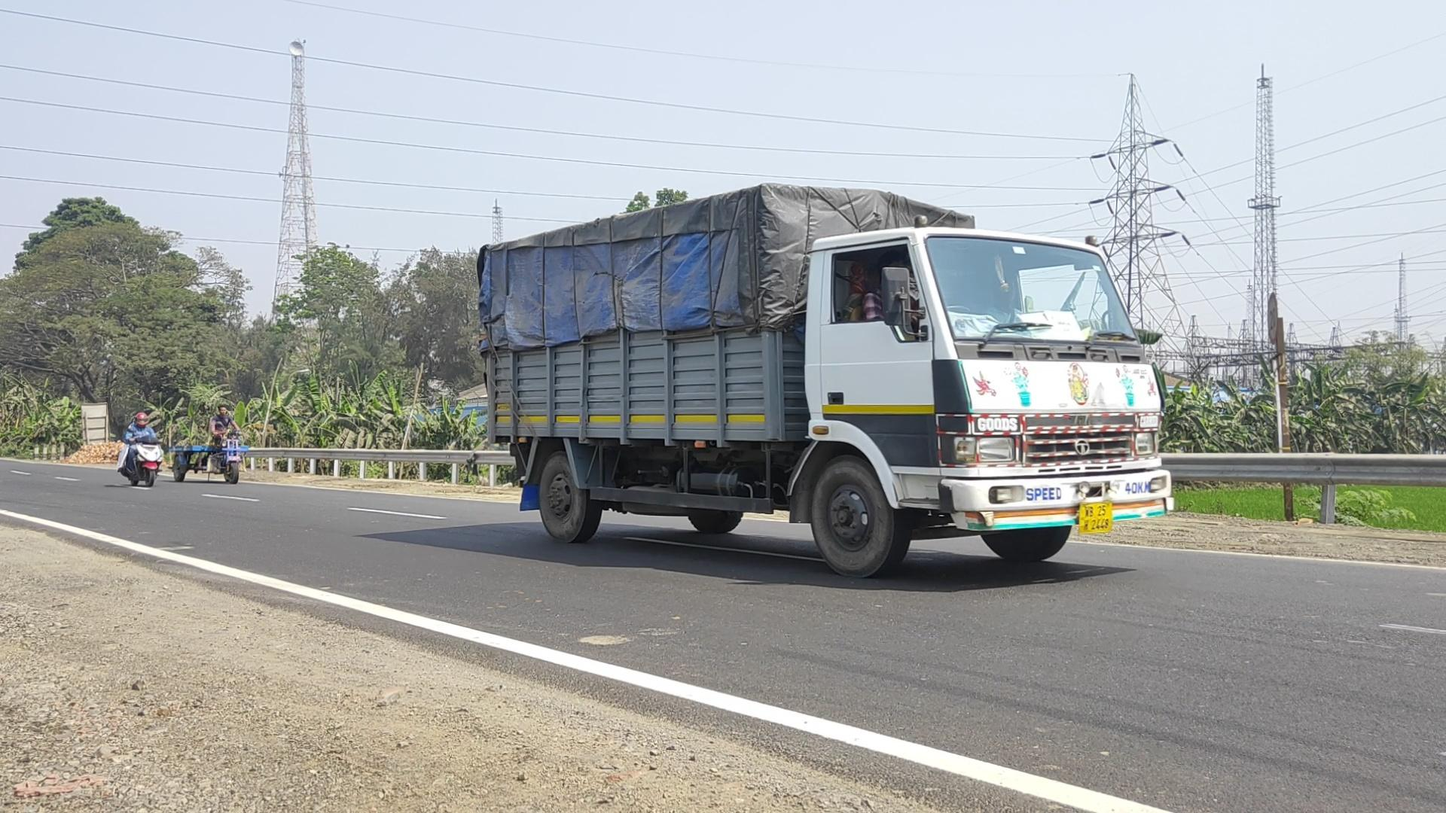bike: (117, 413, 165, 488)
truck: (477, 181, 1176, 581)
